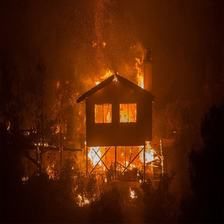fire: (70, 55, 159, 186)
